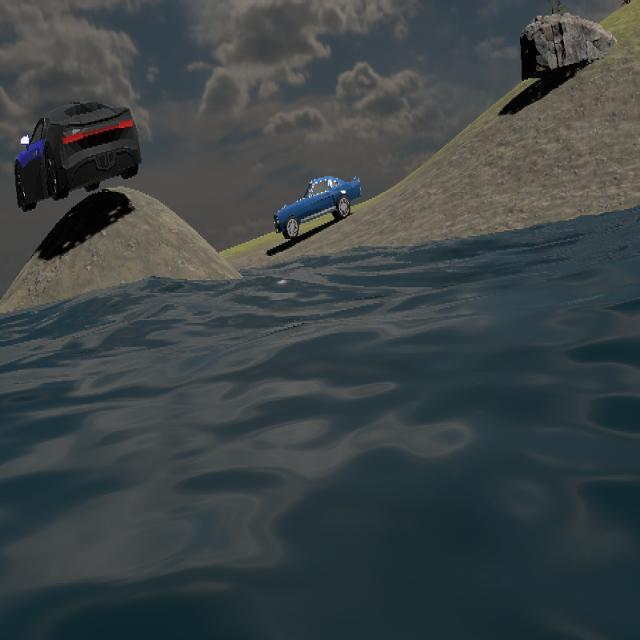car: (14, 100, 143, 208), (273, 174, 362, 242)
